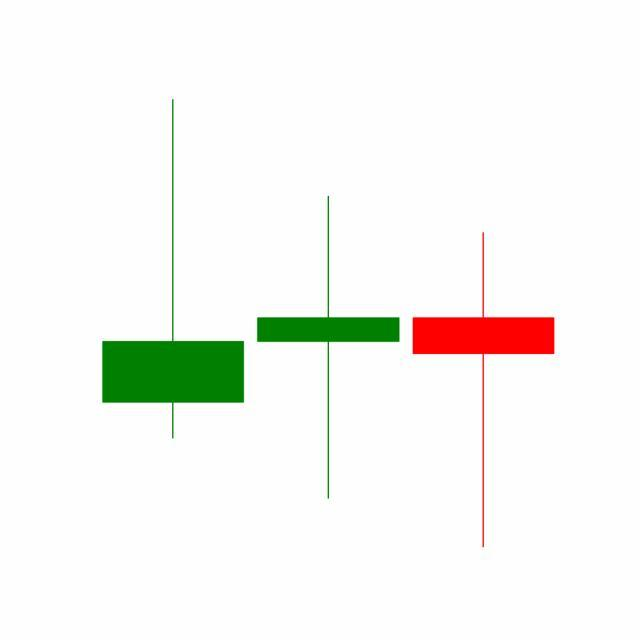Spinning Top: (250, 194, 407, 504)
